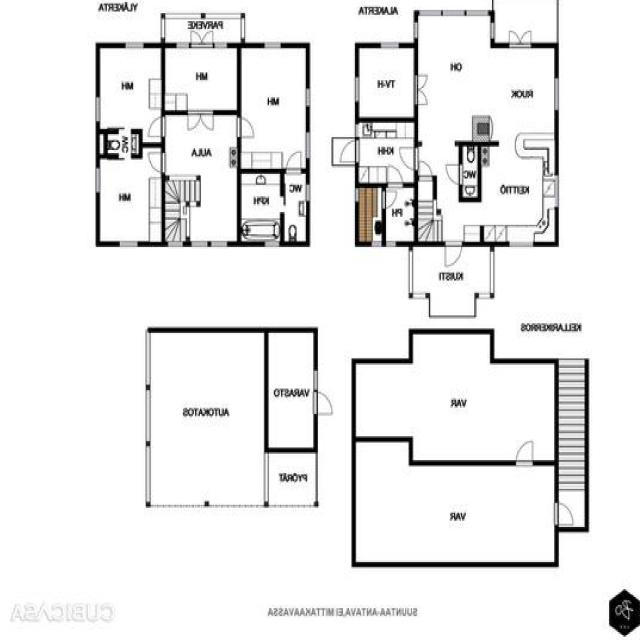door: (554, 502, 576, 525), (339, 140, 360, 162), (314, 392, 335, 414), (446, 242, 462, 270), (398, 148, 419, 169), (517, 439, 532, 466), (444, 165, 464, 185), (147, 116, 166, 137), (147, 152, 166, 172), (388, 163, 403, 188), (287, 149, 301, 174), (238, 118, 256, 137), (420, 158, 433, 182), (382, 192, 399, 209), (202, 110, 214, 132), (189, 110, 201, 132), (414, 75, 430, 90), (414, 90, 430, 105), (202, 28, 214, 48), (520, 28, 531, 48), (510, 28, 520, 48), (192, 28, 202, 48)
